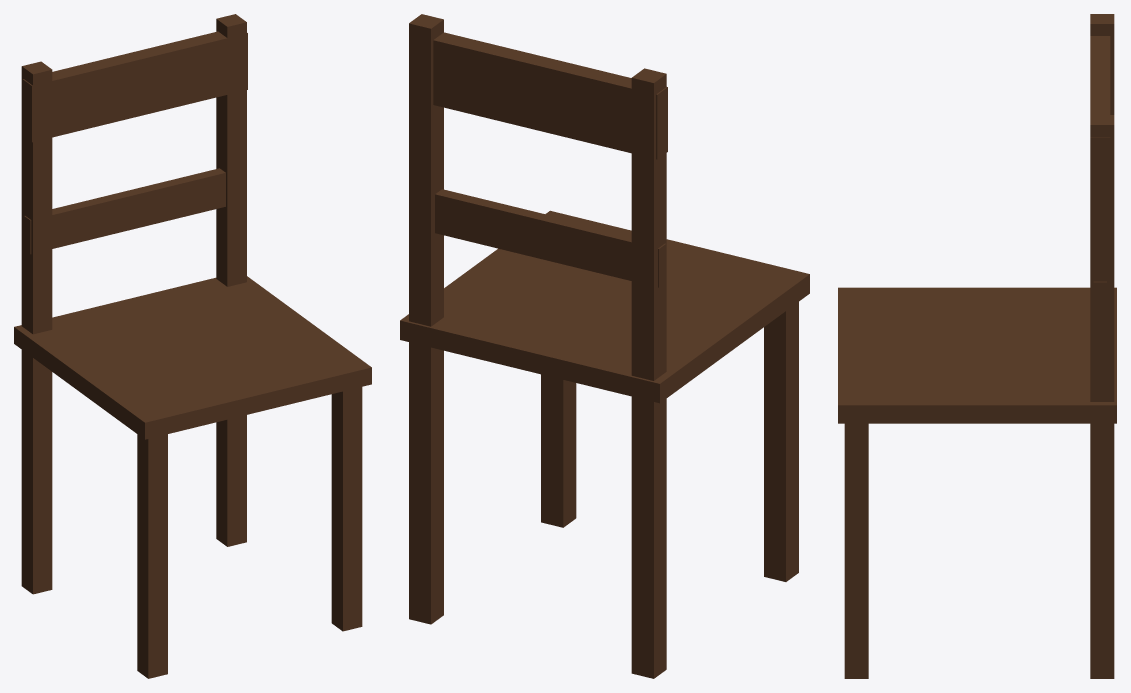
Rendered from chair.glb.
3 renders of one model, left to right at view 1: azimuth 30°, elevation 25°; view 2: azimuth 150°, elevation 25°; view 3: azimuth 270°, elevation 25°, orthographic. The views are drawn at different scales.
Parts seen in each view (by area): view 1: chair; view 2: chair; view 3: chair.
Boxes of the visible parts, x1,y1,x2,y2 form: chair: (14, 14, 371, 678); chair: (400, 14, 809, 678); chair: (838, 14, 1116, 678).
Size of the model in its own units: 0.42 by 0.92 by 0.42.
1 material, 1 textured.
